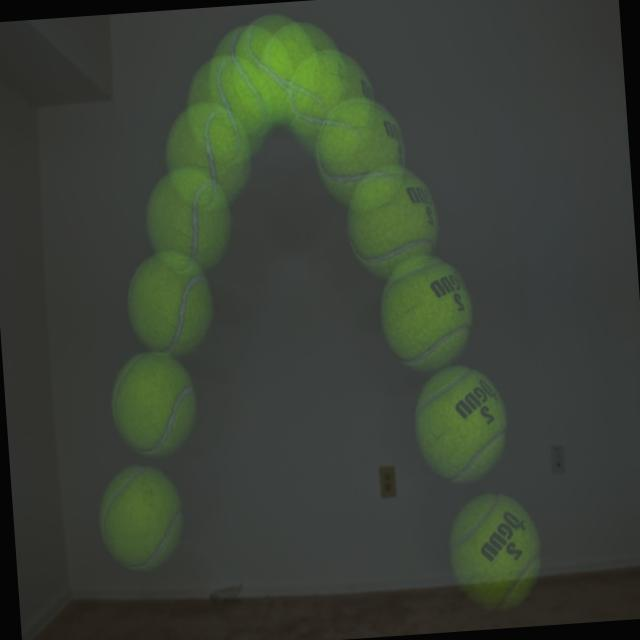Tennis Ball: (81, 2, 511, 507), (446, 488, 540, 614), (94, 469, 188, 579)
